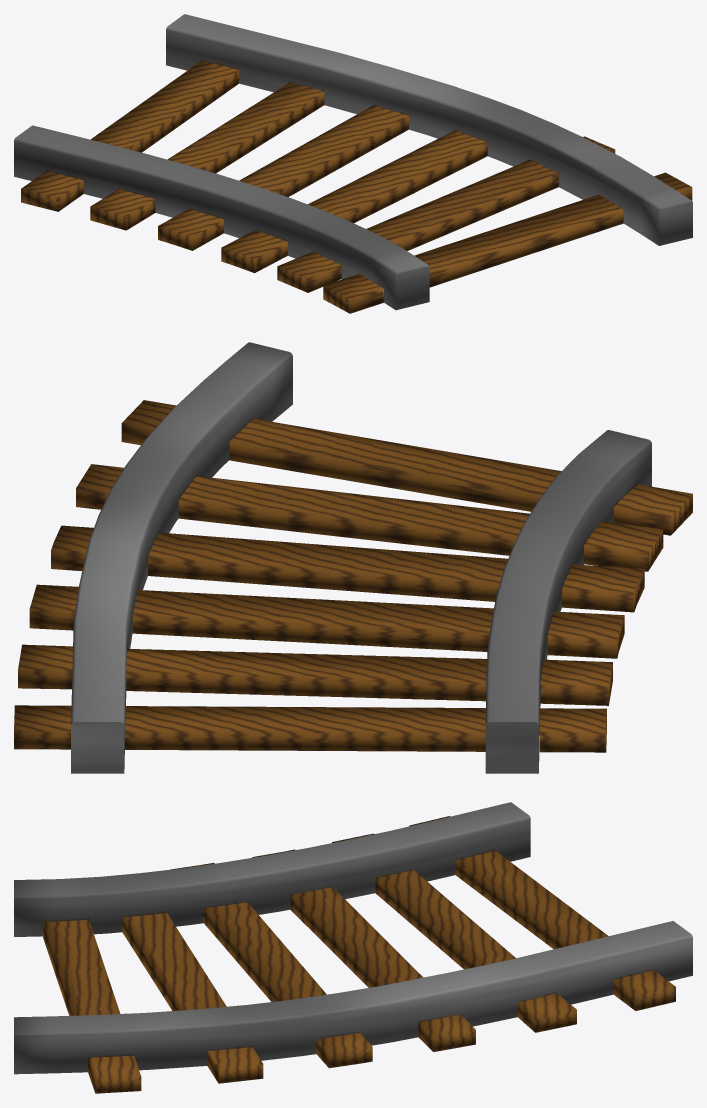
Rendered from TurningRailLeft.fbx.
3 views of the same model, one above another, from view 1: azimuth 30°, elevation 25°; view 2: azimuth 150°, elevation 25°; view 3: azimuth 270°, elevation 25° (orthographic). The views are drawn at different scales.
Visible parts, largest first — view 1: TurningRailLeft; view 2: TurningRailLeft; view 3: TurningRailLeft.
Part boxes in pixels (x1,y1,x2,y2): TurningRailLeft: [14, 14, 692, 313]; TurningRailLeft: [14, 342, 692, 773]; TurningRailLeft: [14, 802, 692, 1093].
Bounding box in the file's own units: 269 × 19.26 × 293.
